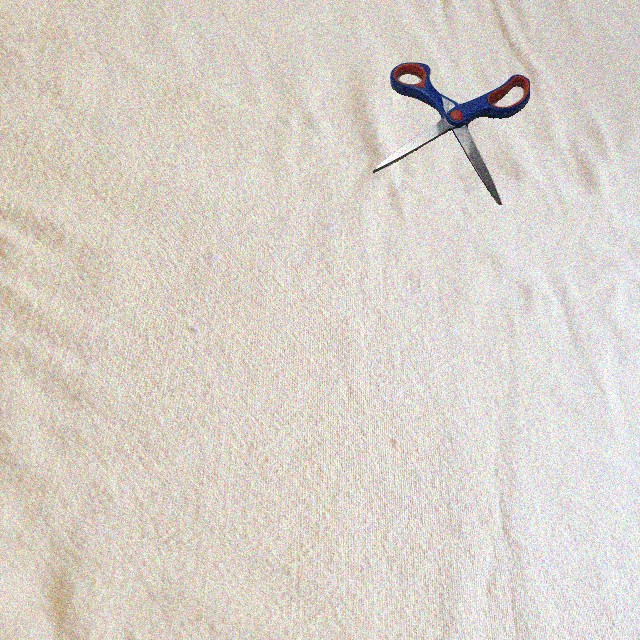scissors: (373, 62, 530, 205)
